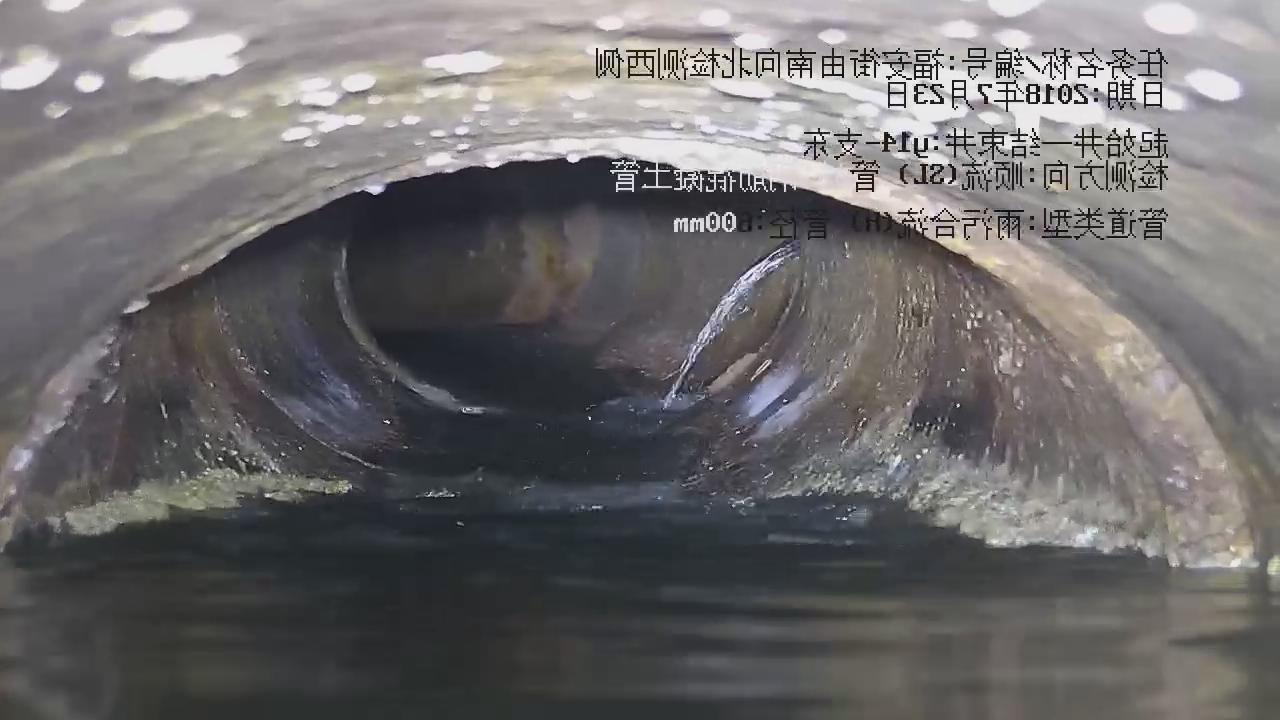SL: (648, 227, 813, 429)
